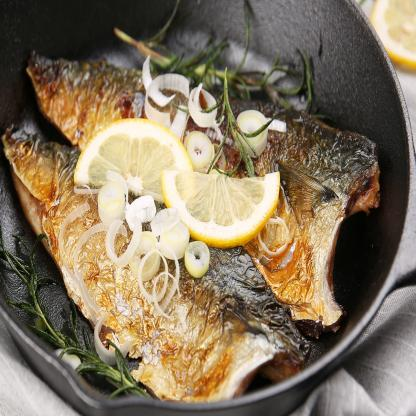Peixe: (12, 47, 365, 414)
